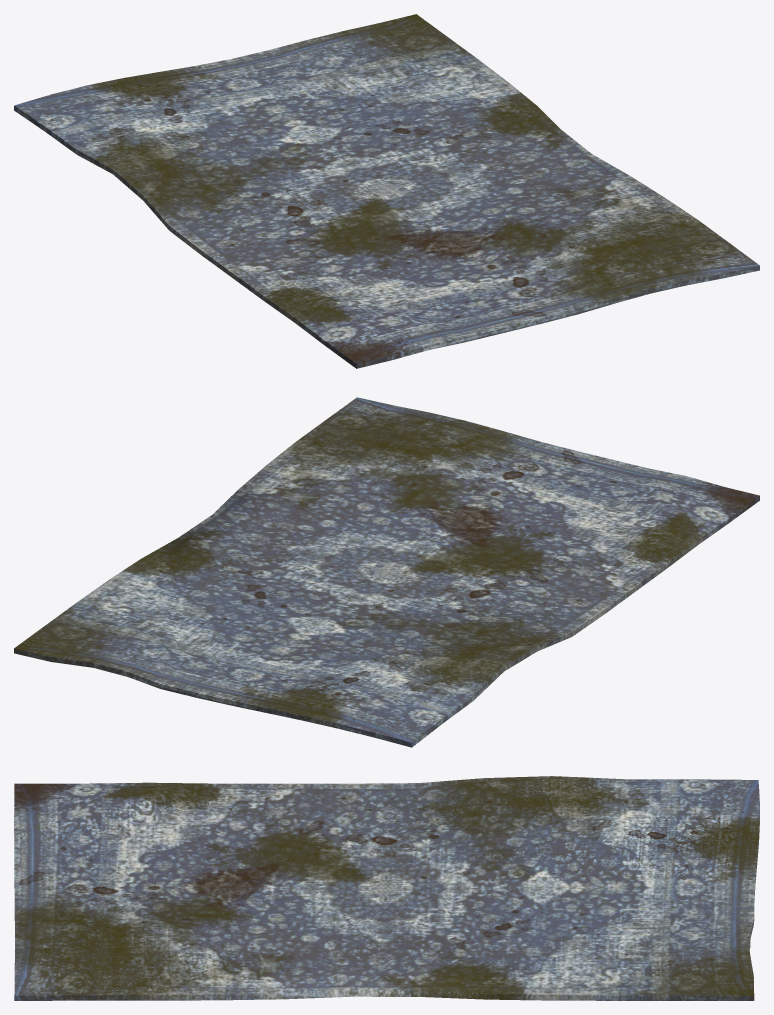
Rendered from rug_sp.glb.
3 renders of one model, top to bottom at view 1: azimuth 30°, elevation 25°; view 2: azimuth 150°, elevation 25°; view 3: azimuth 270°, elevation 25°, orthographic. The views are drawn at different scales.
Parts seen in each view (by area): view 1: Plane.012; view 2: Plane.012; view 3: Plane.012.
Boxes of the visible parts, x1=… form: Plane.012: x1=14, y1=14, x2=759, y2=368; Plane.012: x1=14, y1=397, x2=759, y2=747; Plane.012: x1=14, y1=776, x2=759, y2=1000.
Bounding box in the file's own units: 12.81 × 0.4584 × 19.04.
1 material, 1 textured.
